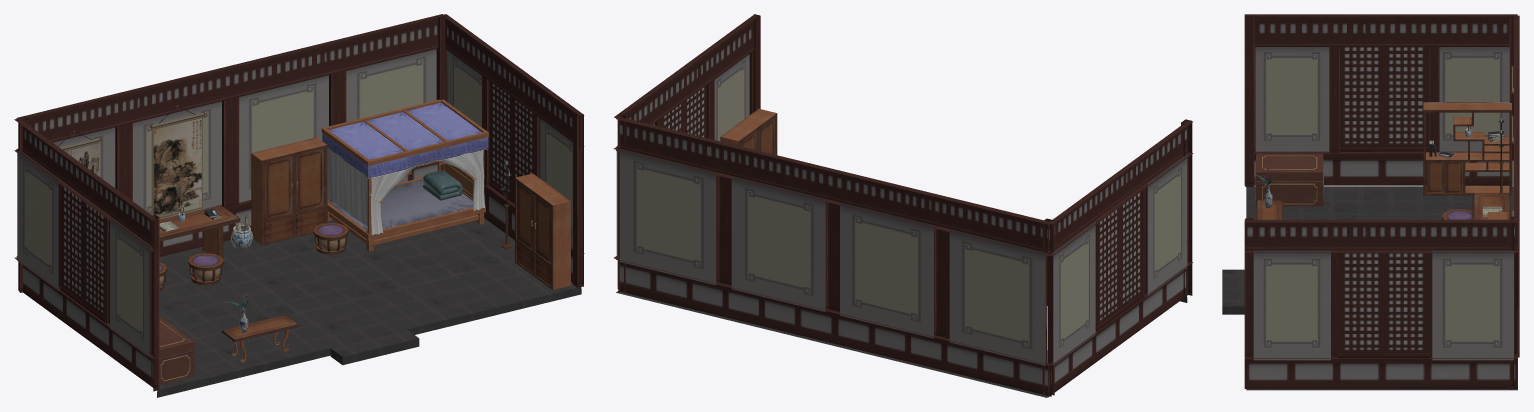
Rendered from SN_DZF_G.FBX.
3 renders of one model, left to right at view 1: azimuth 30°, elevation 25°; view 2: azimuth 150°, elevation 25°; view 3: azimuth 270°, elevation 25°, orthographic. The views are drawn at different scales.
Parts seen in each view (by area): view 1: SN_DZF_G_001_03, SN_DZF_G_001_04, SN_DZF_G_001_01, SN_DZF_G_001_05, SN_DZF_G_001_02; view 2: SN_DZF_G_001_03, SN_DZF_G_001_01, SN_DZF_G_001_04; view 3: SN_DZF_G_001_03, SN_DZF_G_001_01, SN_DZF_G_001_04, SN_DZF_G_001_05.
Part boxes in pixels (bbox=[...]): SN_DZF_G_001_03: bbox=[14, 14, 584, 391]; SN_DZF_G_001_04: bbox=[157, 215, 581, 397]; SN_DZF_G_001_01: bbox=[159, 99, 570, 384]; SN_DZF_G_001_05: bbox=[58, 105, 512, 332]; SN_DZF_G_001_02: bbox=[327, 148, 484, 235]; SN_DZF_G_001_03: bbox=[614, 14, 1193, 397]; SN_DZF_G_001_01: bbox=[720, 108, 1047, 362]; SN_DZF_G_001_04: bbox=[616, 291, 1187, 397]; SN_DZF_G_001_03: bbox=[1244, 14, 1519, 389]; SN_DZF_G_001_01: bbox=[1255, 102, 1511, 219]; SN_DZF_G_001_04: bbox=[1222, 186, 1517, 390]; SN_DZF_G_001_05: bbox=[1255, 65, 1513, 216].
Size of the model in its own units: 13.12 by 5.24 by 7.92.
